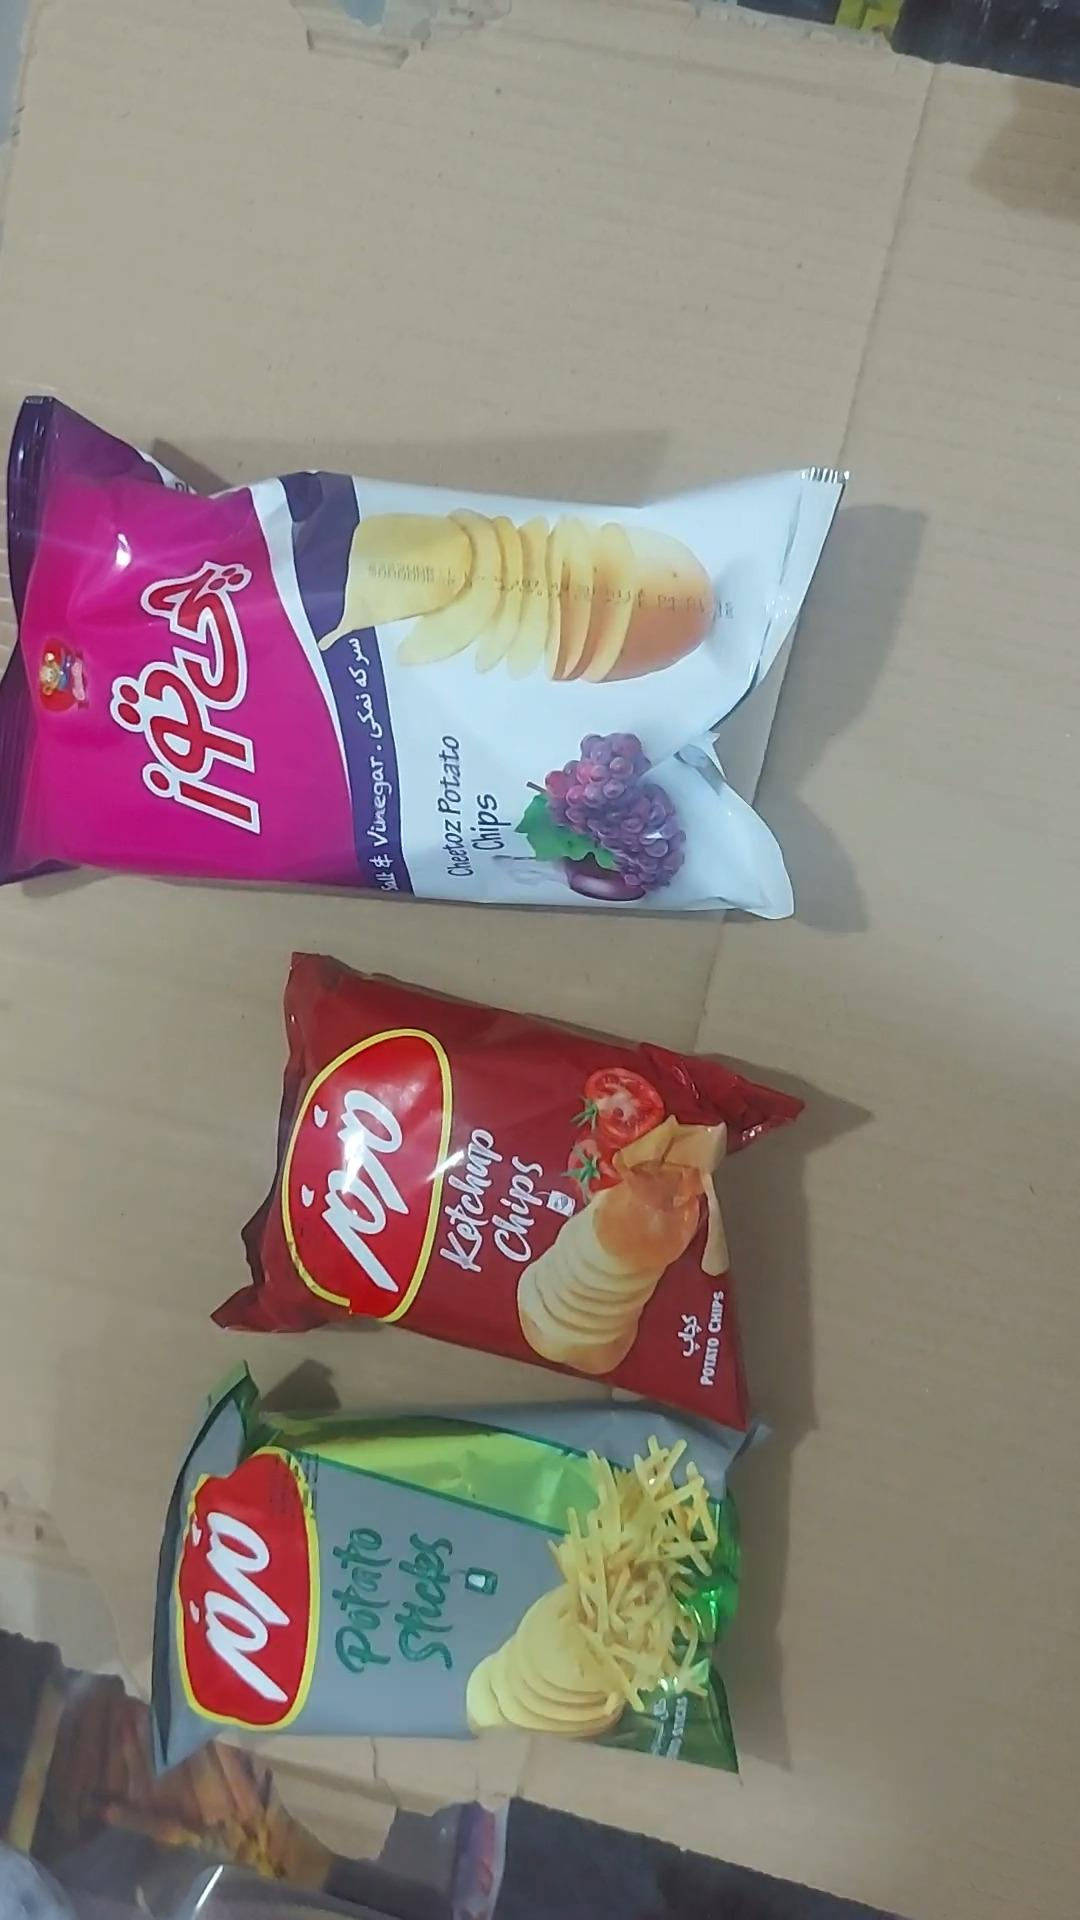Cheetoz vinegar chips: (0, 394, 851, 922)
Maz Maz ketchup chips: (212, 953, 806, 1429)
Maz Maz potato sticks: (150, 1361, 748, 1776)
